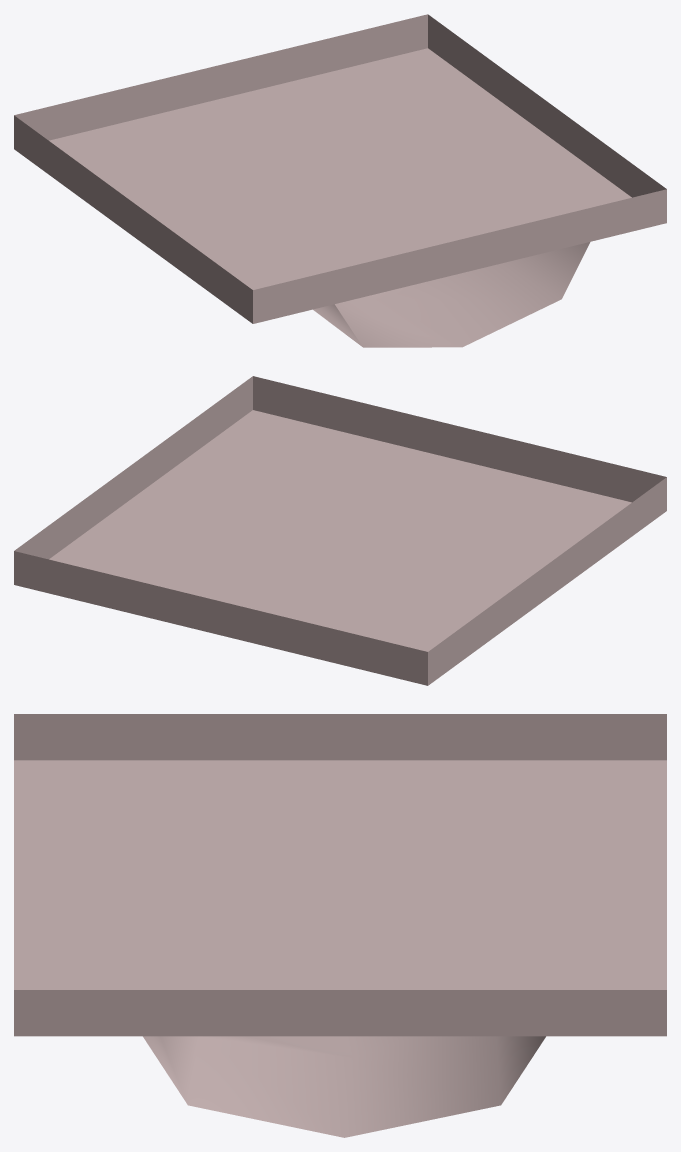
File: BCeilPipeBendS.fbx
The picture shows the model from 3 angles, top to bottom: view 1: azimuth 30°, elevation 25°; view 2: azimuth 150°, elevation 25°; view 3: azimuth 270°, elevation 25°; orthographic projection. The views are drawn at different scales.
Visible parts, largest first — view 1: BCeilPipeBendS; view 2: BCeilPipeBendS; view 3: BCeilPipeBendS.
Part boxes in pixels (x1,y1,x2,y2): BCeilPipeBendS: (14,14,666,347); BCeilPipeBendS: (14,376,666,685); BCeilPipeBendS: (14,714,666,1137).
Bounding box in the file's own units: 200 × 50 × 200.
